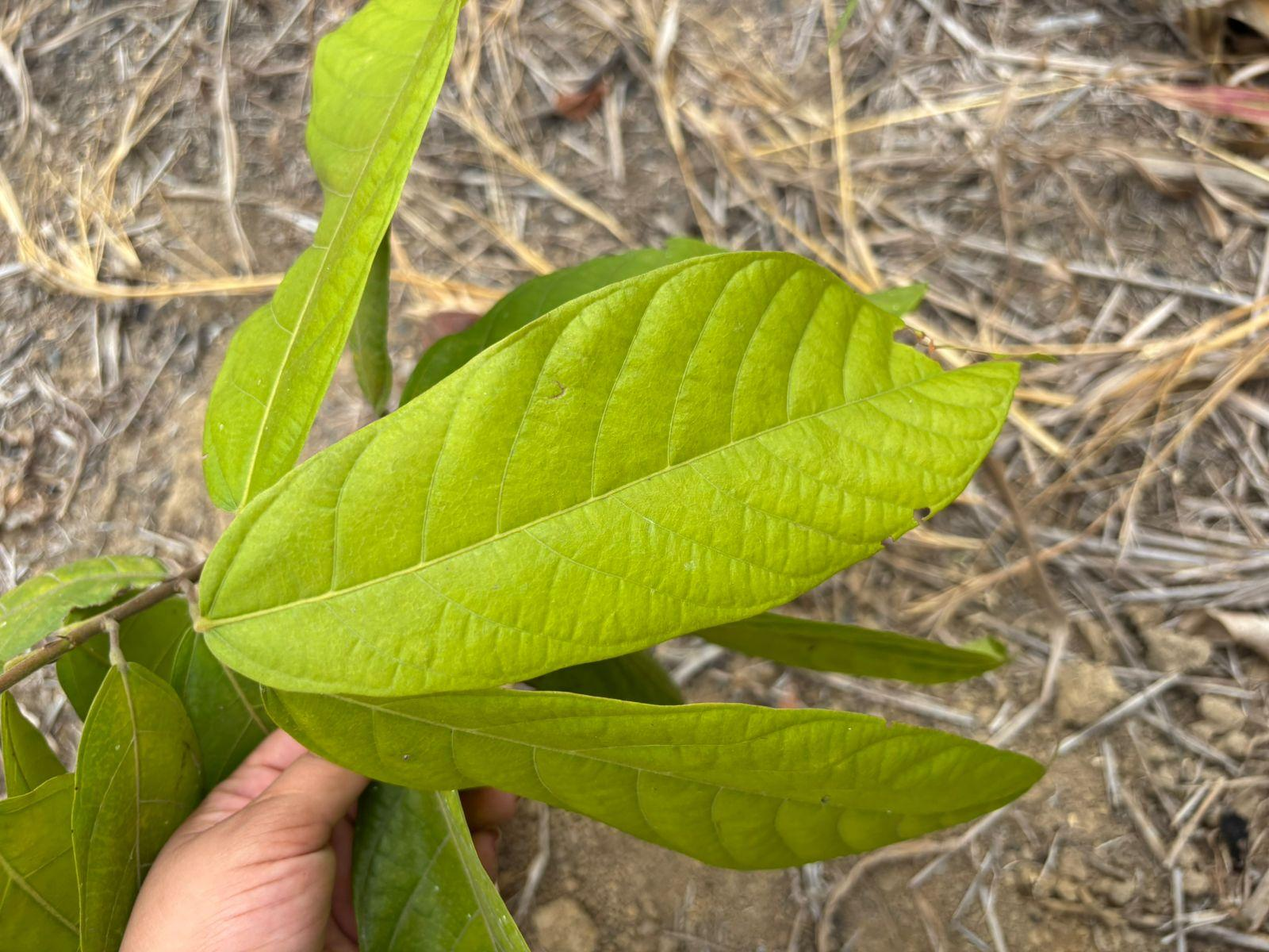Nitrogeno: (197, 252, 1017, 696), (264, 688, 1042, 869), (204, 0, 465, 510)
